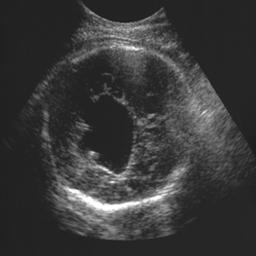abnormal: (35, 44, 202, 215)
